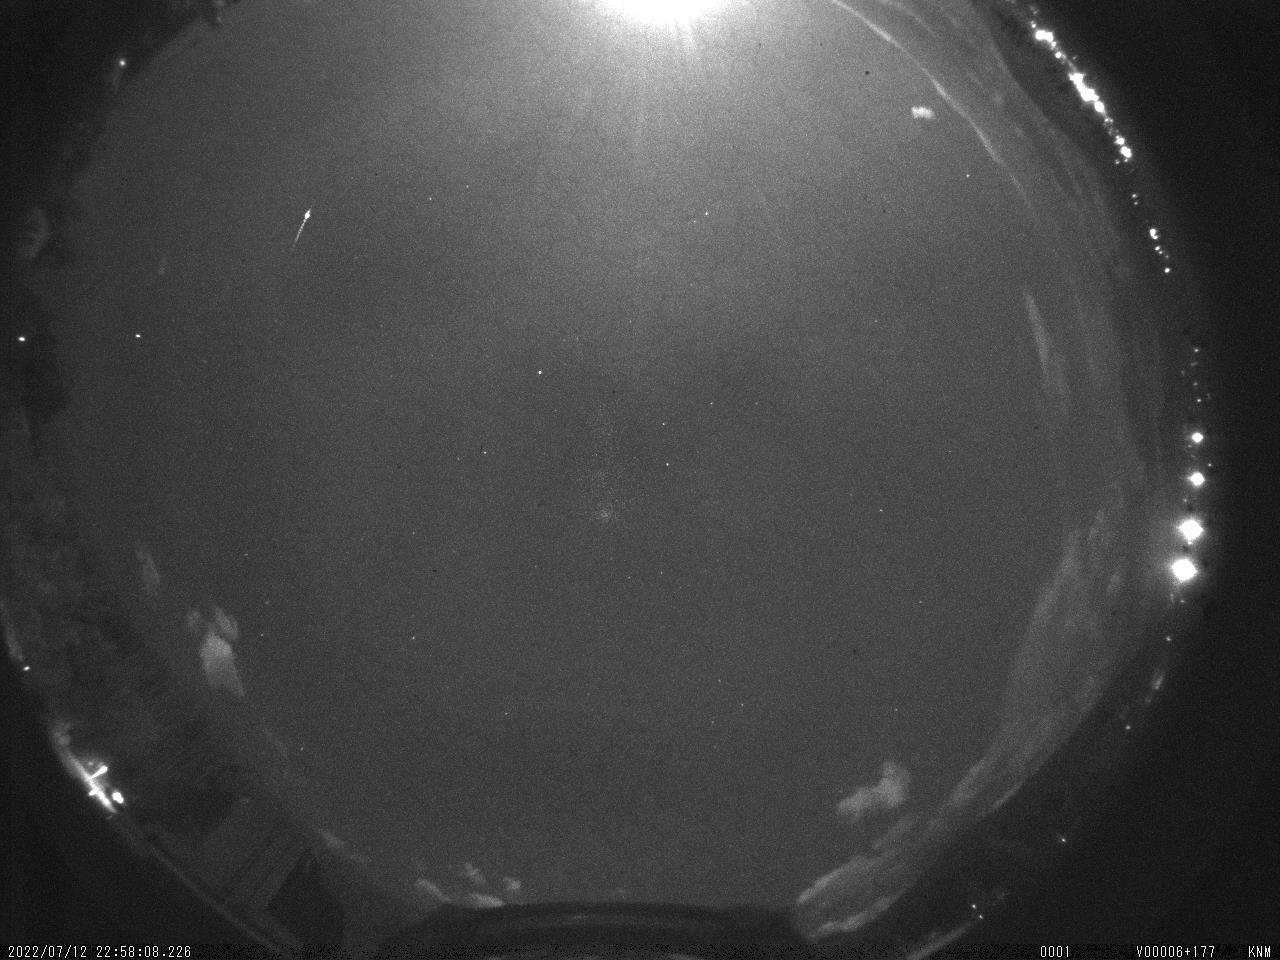Meteor: (287, 204, 317, 251)
